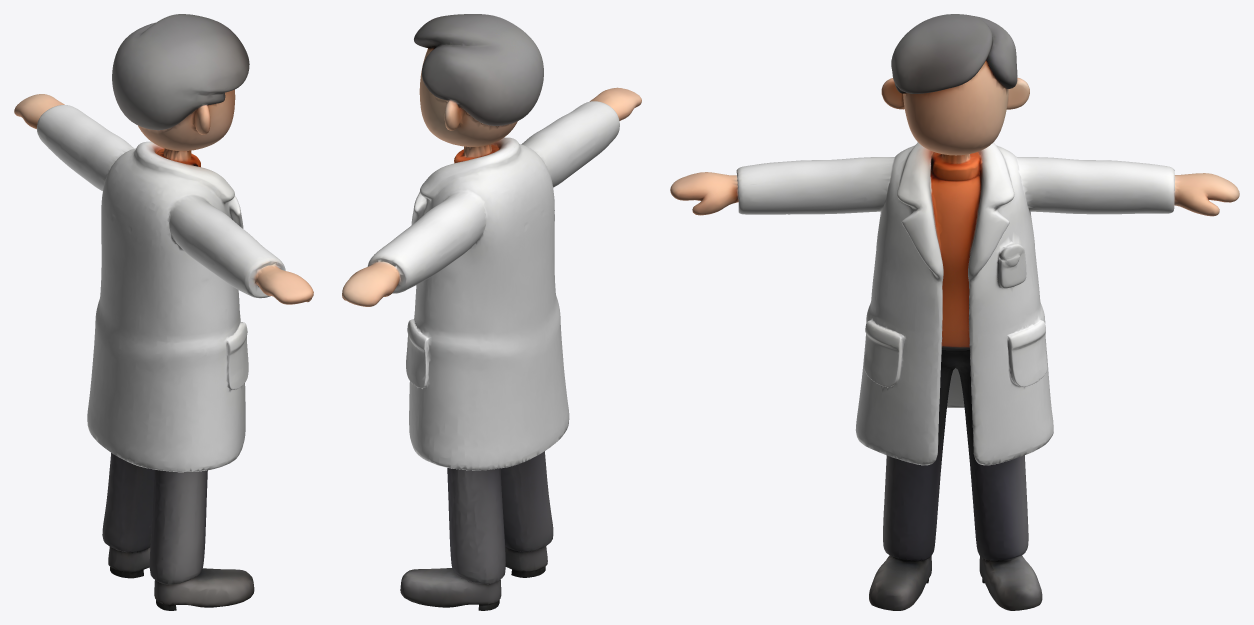
File: doctor_male.glb
3 views of the same model, side by side, from view 1: azimuth 30°, elevation 25°; view 2: azimuth 150°, elevation 25°; view 3: azimuth 270°, elevation 25° (orthographic). The views are drawn at different scales.
Visible parts, largest first — view 1: tripo_node_4d1b8bbc-62a8-4fca-a2e6-61f759c19634; view 2: tripo_node_4d1b8bbc-62a8-4fca-a2e6-61f759c19634; view 3: tripo_node_4d1b8bbc-62a8-4fca-a2e6-61f759c19634.
Part boxes in pixels (bbox=[...]): tripo_node_4d1b8bbc-62a8-4fca-a2e6-61f759c19634: bbox=[14, 14, 313, 610]; tripo_node_4d1b8bbc-62a8-4fca-a2e6-61f759c19634: bbox=[342, 14, 641, 610]; tripo_node_4d1b8bbc-62a8-4fca-a2e6-61f759c19634: bbox=[670, 14, 1239, 610].
Bounding box in the file's own units: 0.2492 × 1 × 0.8997.
1 material, 1 textured.
